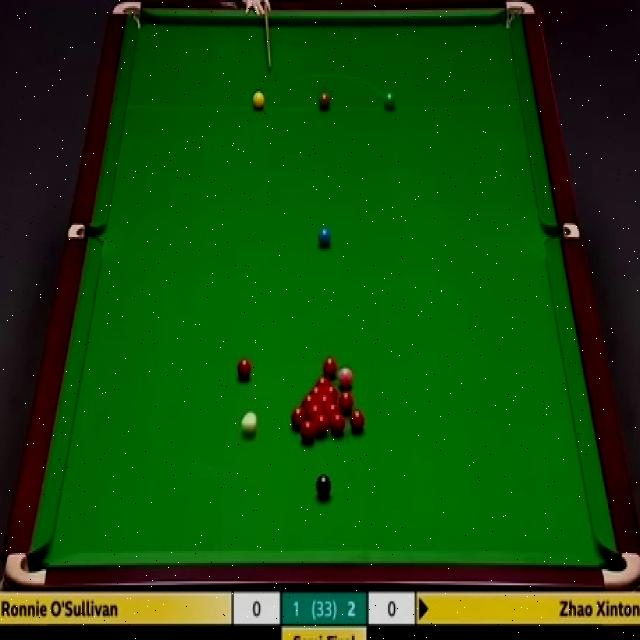black-ball: (316, 473, 331, 499)
blue-ball: (318, 227, 331, 245)
brown-ball: (318, 93, 331, 110)
green-ball: (383, 89, 397, 113)
pink-ball: (338, 367, 354, 389)
red-ball: (332, 409, 347, 438), (316, 410, 332, 432), (290, 407, 306, 429), (340, 390, 355, 413), (322, 357, 337, 379), (350, 409, 364, 432), (302, 421, 317, 442), (238, 358, 251, 382), (306, 404, 322, 420), (317, 394, 333, 409), (324, 383, 338, 399), (301, 393, 316, 407), (315, 376, 330, 390), (311, 384, 323, 399), (326, 404, 340, 416)
white-ball: (239, 412, 257, 437)
yellow-ball: (251, 90, 266, 111)
